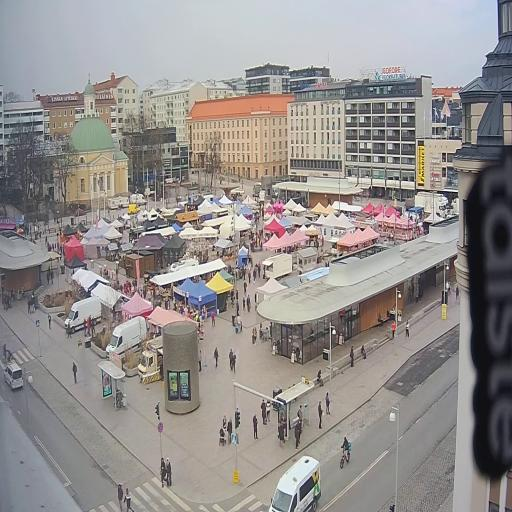car: (3, 360, 26, 400)
delivery: (268, 451, 326, 512), (105, 310, 150, 363), (63, 291, 105, 336), (410, 192, 449, 223), (129, 189, 148, 211), (125, 202, 142, 217)
two-wheels: (338, 428, 357, 471)
